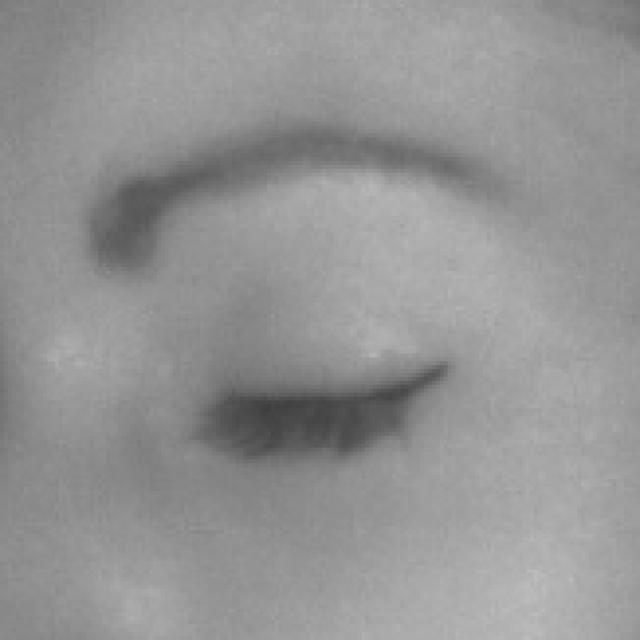Eyeclosed: (211, 294, 448, 528)
